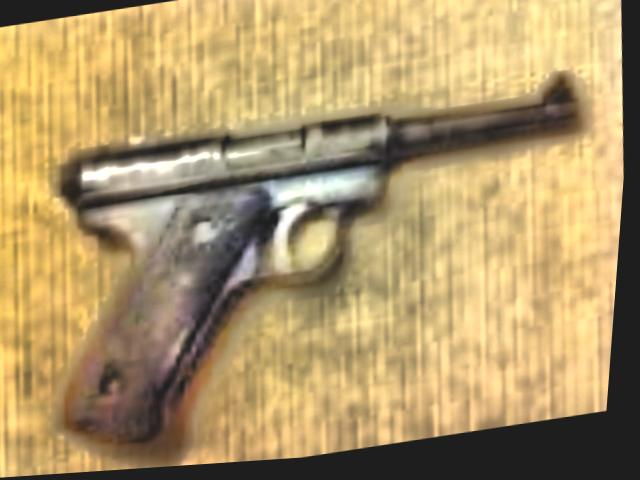pistol: (24, 70, 623, 463)
